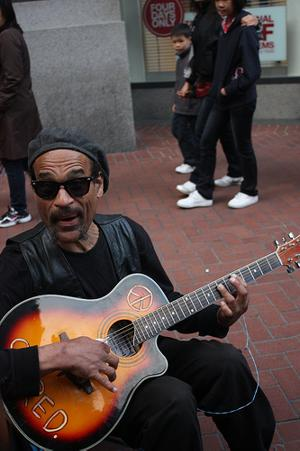person: (2, 123, 276, 449)
